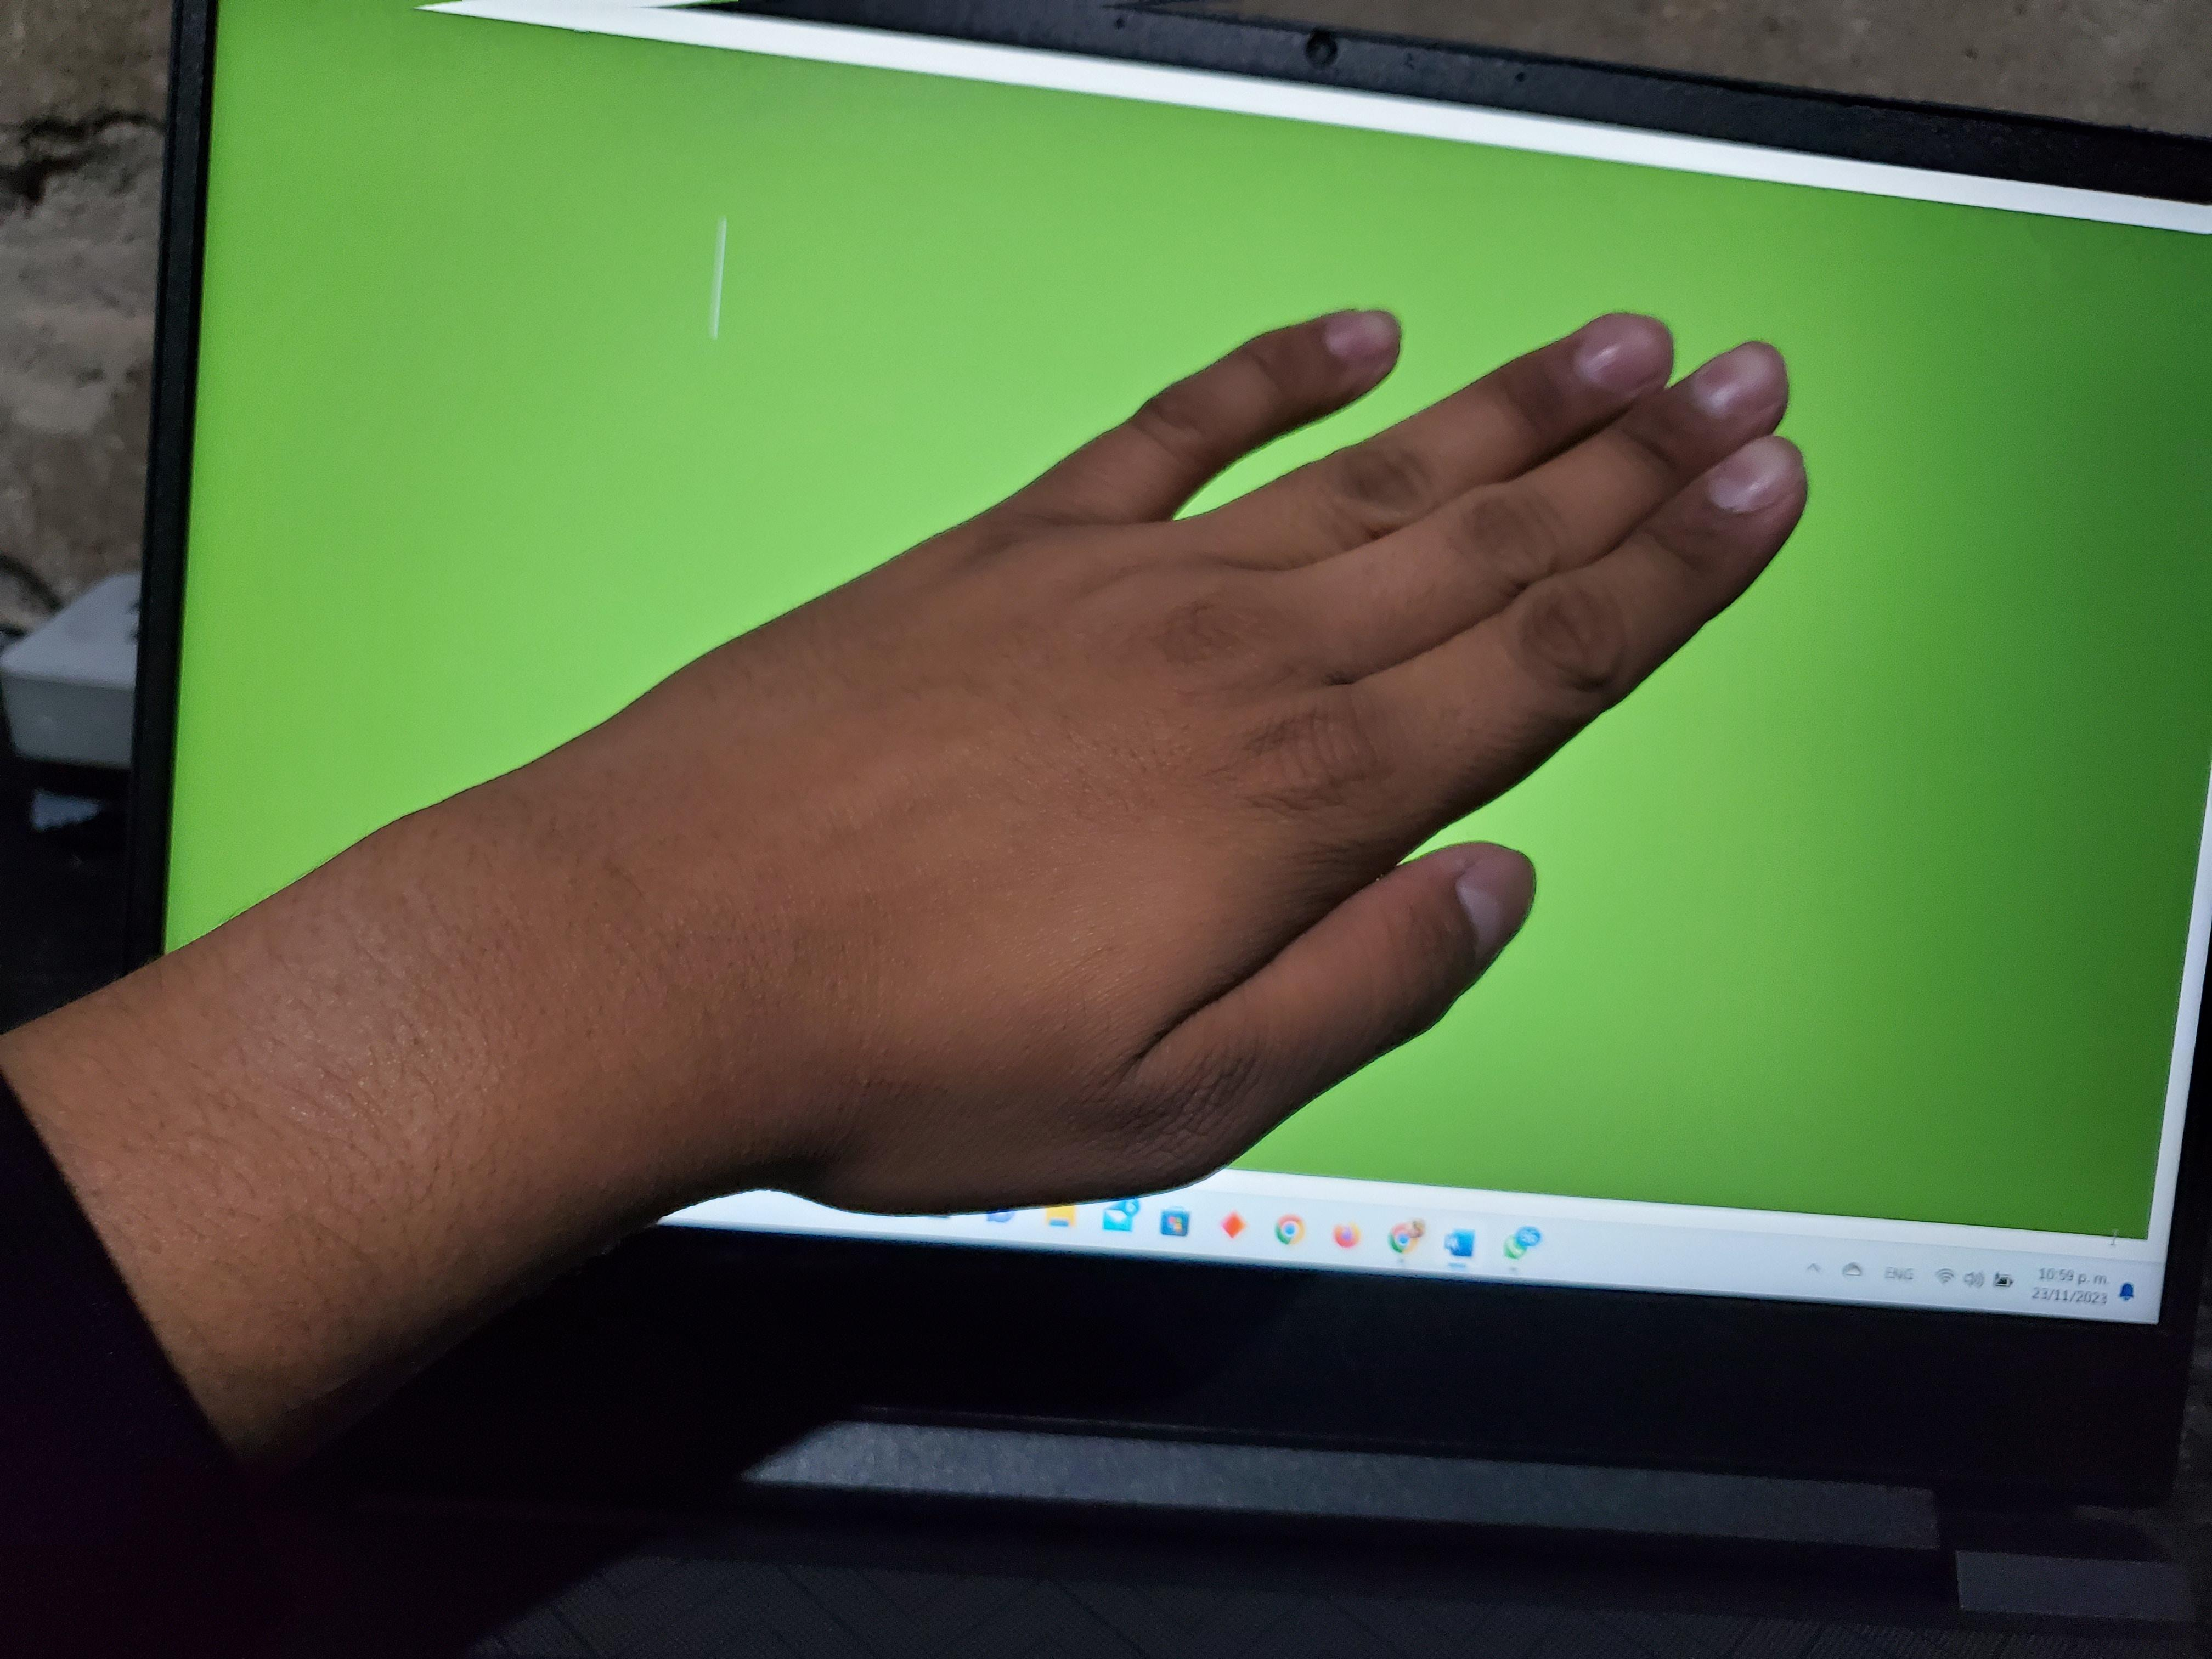Paper: (0, 143, 1958, 1364)
